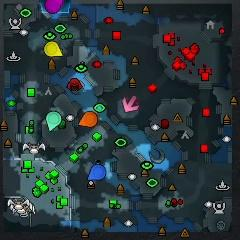p1: (87, 164, 106, 181)
p2: (46, 111, 62, 131)
p3: (45, 0, 62, 15)
p4: (44, 41, 63, 57)
p5: (78, 111, 98, 127)
x1: (122, 95, 139, 112)
